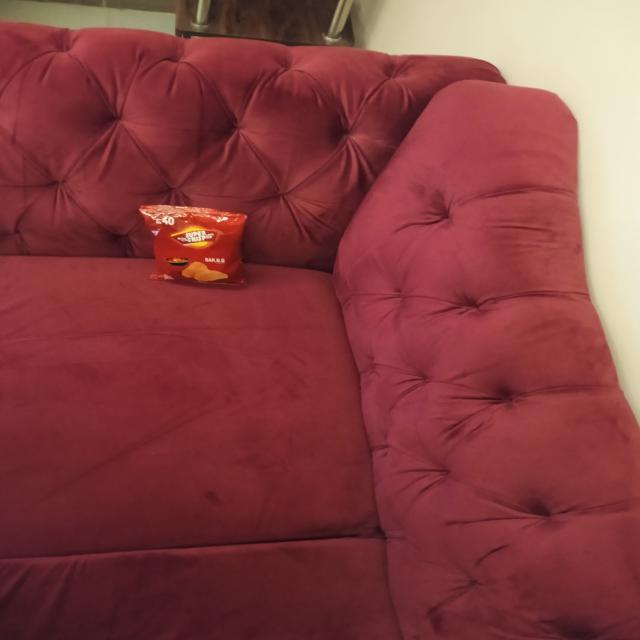Plastic: (136, 200, 254, 289)
